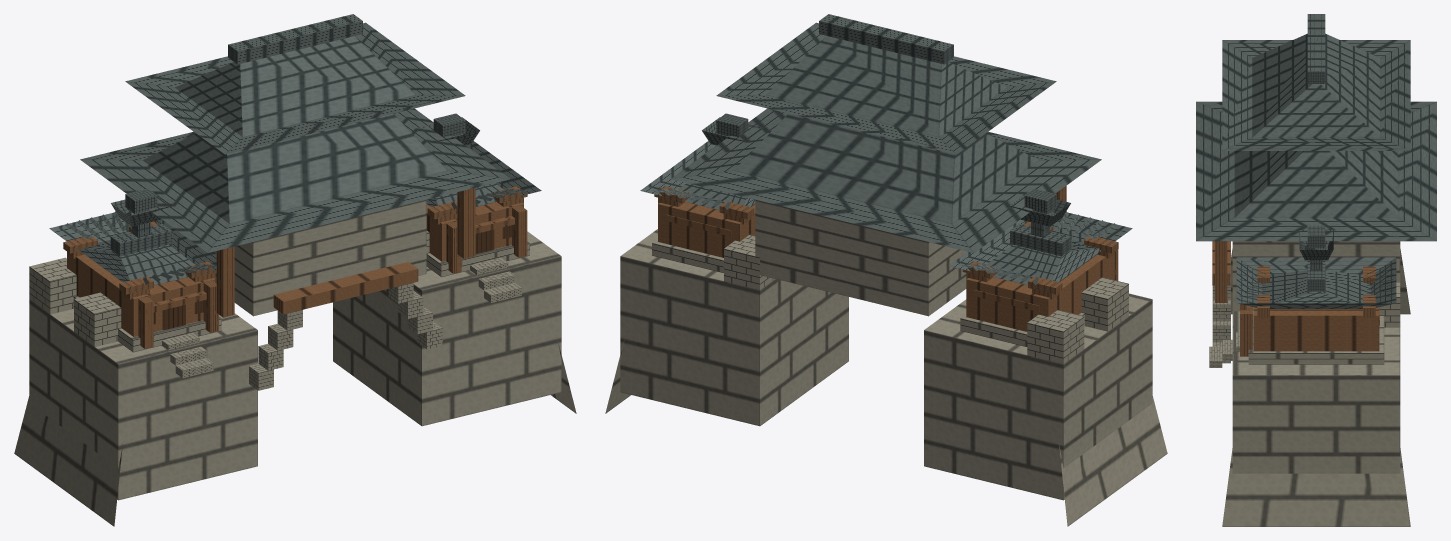
File: gate-lod0.glb
The picture shows the model from 3 angles, left to right: view 1: azimuth 30°, elevation 25°; view 2: azimuth 150°, elevation 25°; view 3: azimuth 270°, elevation 25°; orthographic projection. The views are drawn at different scales.
Bounding box in the file's own units: 0.96 × 0.796 × 0.46.
Materials: 1 (1 with a texture image).
